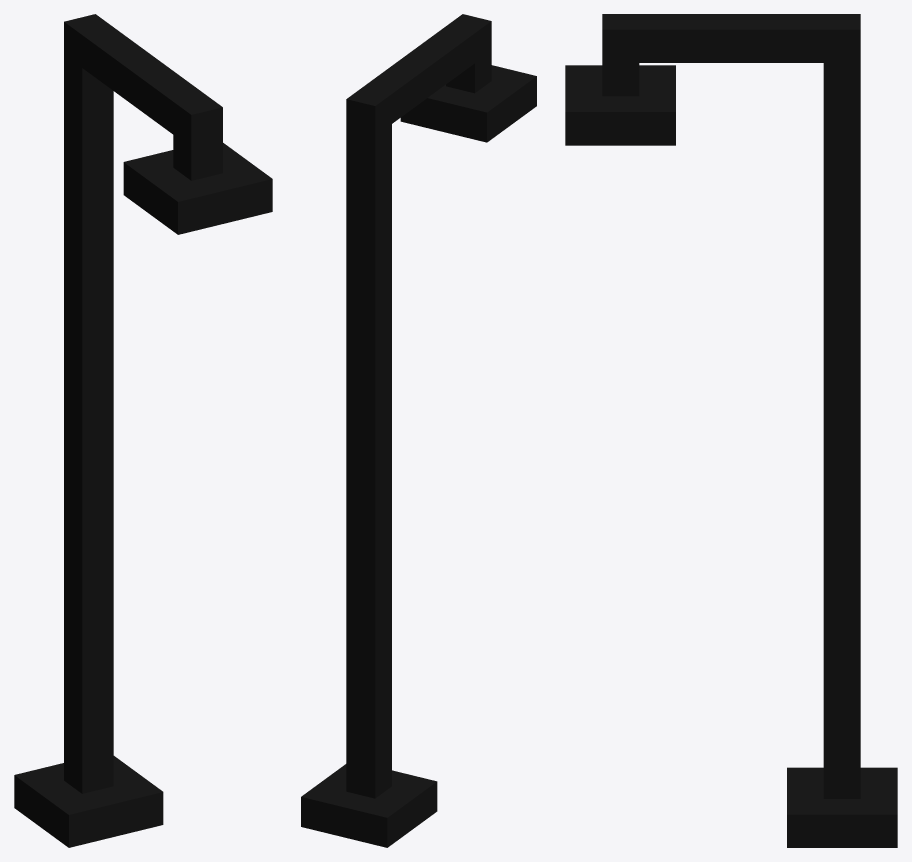
The model's file is Lampara.obj.
3 views of the same model, side by side, from view 1: azimuth 30°, elevation 25°; view 2: azimuth 150°, elevation 25°; view 3: azimuth 270°, elevation 25° (orthographic). The views are drawn at different scales.
Bounding box in the file's own units: 0.3 × 2.4 × 0.9.
1 material, 1 textured.
